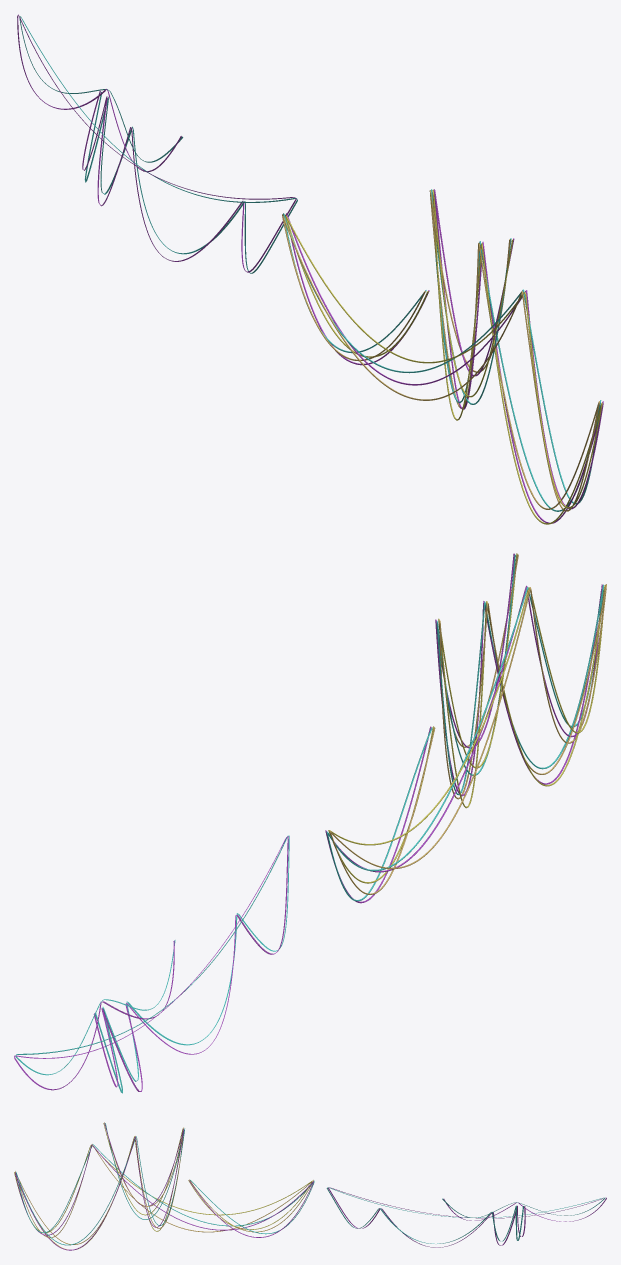
Rendered from cable.fbx.
3 views of the same model, one above another, from view 1: azimuth 30°, elevation 25°; view 2: azimuth 150°, elevation 25°; view 3: azimuth 270°, elevation 25° (orthographic). The views are drawn at different scales.
Visible parts, largest first — view 1: GeoCables, cable; view 2: GeoCables, cable; view 3: GeoCables, cable.
Part boxes in pixels (bbox=[...]): GeoCables: bbox=[282, 189, 603, 524]; cable: bbox=[17, 14, 297, 273]; GeoCables: bbox=[325, 553, 606, 903]; cable: bbox=[14, 835, 289, 1093]; GeoCables: bbox=[14, 1122, 314, 1250]; cable: bbox=[326, 1187, 606, 1247].
Size of the model in its own units: 19.83 by 162 by 678.
